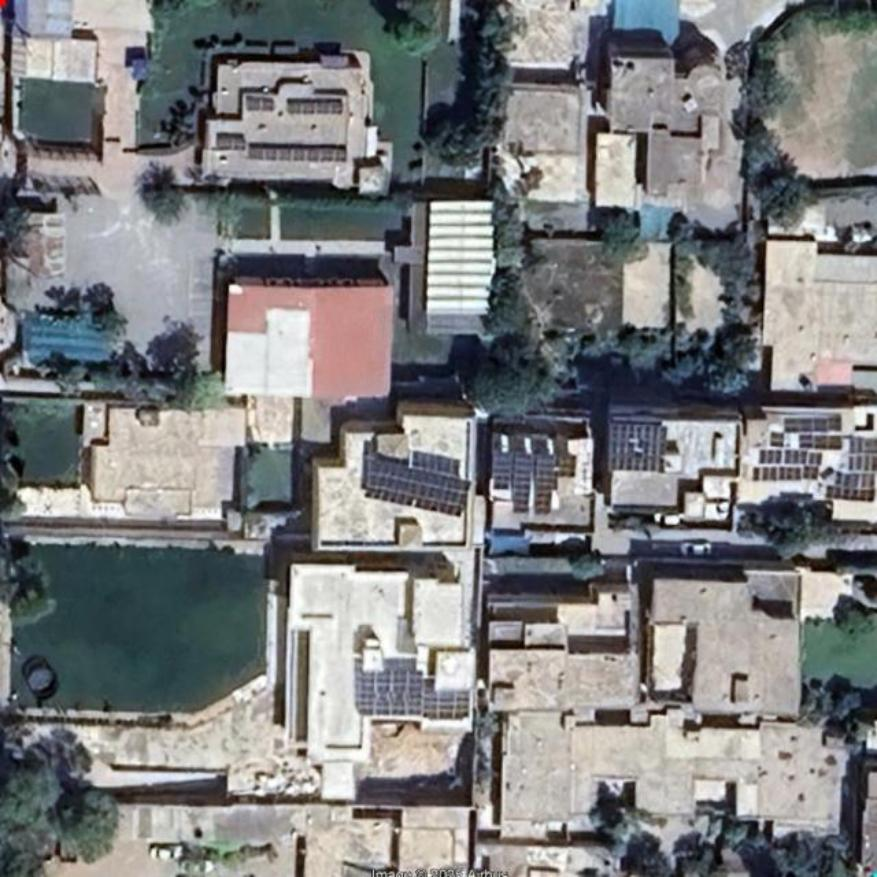Solarpanel: (363, 455, 473, 520), (355, 665, 428, 715), (610, 425, 665, 471), (252, 145, 347, 163), (533, 456, 556, 518), (419, 688, 470, 713), (827, 474, 874, 501), (516, 456, 536, 515), (786, 415, 840, 434), (849, 438, 876, 472), (755, 467, 820, 481), (495, 453, 519, 489), (288, 99, 341, 115), (762, 453, 821, 466), (799, 434, 840, 448), (219, 134, 244, 152), (558, 456, 577, 479), (243, 98, 274, 111)
